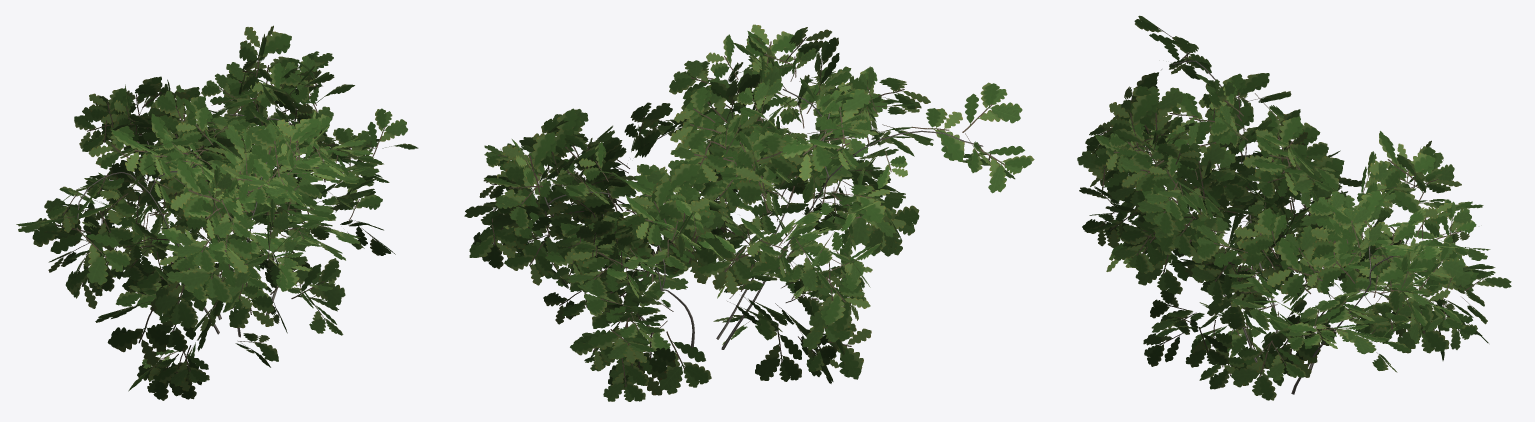
Rendered from bush_04.glb.
3 renders of one model, left to right at view 1: azimuth 30°, elevation 25°; view 2: azimuth 150°, elevation 25°; view 3: azimuth 270°, elevation 25°, orthographic. The views are drawn at different scales.
Visible parts, largest first — view 1: gambel_oak_LOD0; view 2: gambel_oak_LOD0; view 3: gambel_oak_LOD0.
Part boxes in pixels (box(x1,y1,x2,y2)): gambel_oak_LOD0: box(16, 25, 418, 400); gambel_oak_LOD0: box(464, 24, 1034, 401); gambel_oak_LOD0: box(1077, 15, 1511, 400).
Bounding box in the file's own units: 1.94 × 1.21 × 1.58.
Materials: 2 (2 with a texture image).
